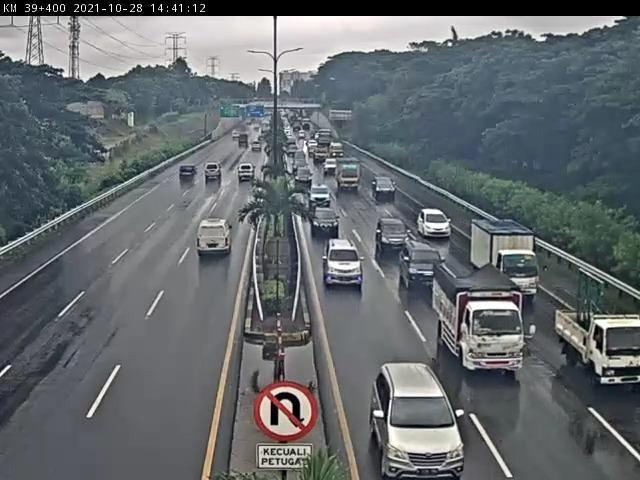car: (371, 363, 467, 480), (398, 241, 445, 293), (323, 239, 365, 288), (196, 219, 235, 260), (374, 218, 413, 253), (416, 209, 454, 242), (311, 206, 341, 237)
truck: (435, 263, 527, 375), (555, 310, 640, 389), (473, 223, 539, 304), (308, 185, 334, 210)
